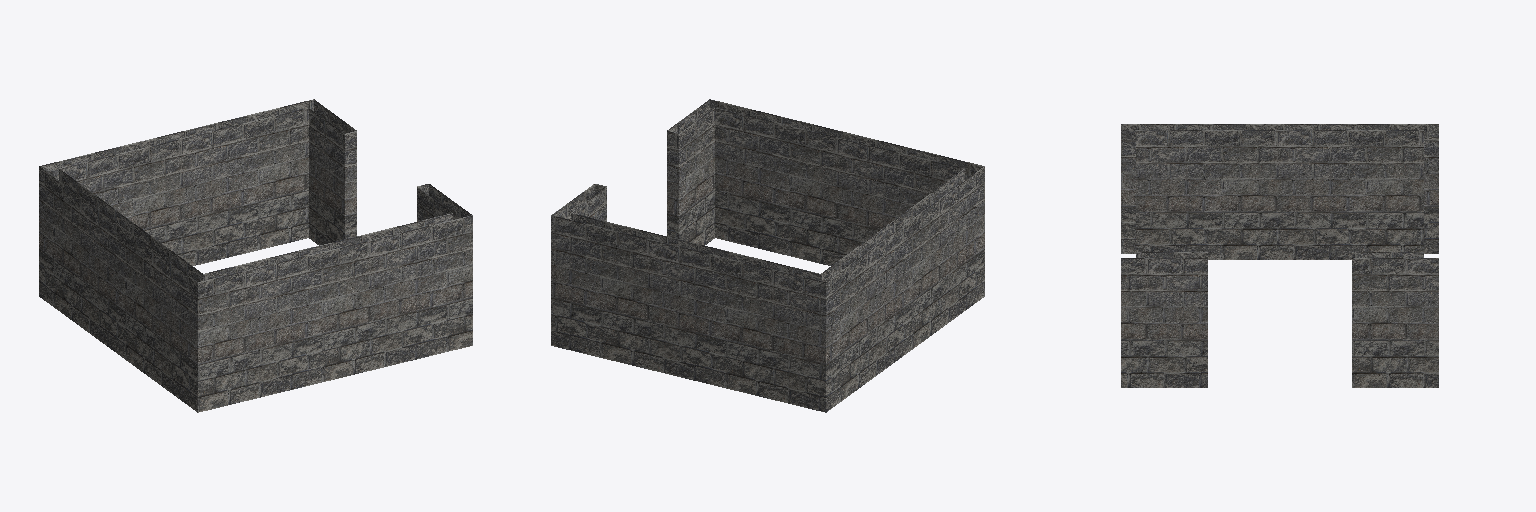
3 views of the same model, side by side, from view 1: azimuth 30°, elevation 25°; view 2: azimuth 150°, elevation 25°; view 3: azimuth 270°, elevation 25° (orthographic).
Visible parts, largest first — view 1: ShedWalls_Plane.003; view 2: ShedWalls_Plane.003; view 3: ShedWalls_Plane.003.
Boxes of the visible parts, x1=… form: ShedWalls_Plane.003: x1=39, y1=99, x2=472, y2=412; ShedWalls_Plane.003: x1=551, y1=99, x2=984, y2=412; ShedWalls_Plane.003: x1=1121, y1=124, x2=1438, y2=387.
Bounding box in the file's own units: 2.2 × 1 × 2.2.
Materials: 1 (1 with a texture image).